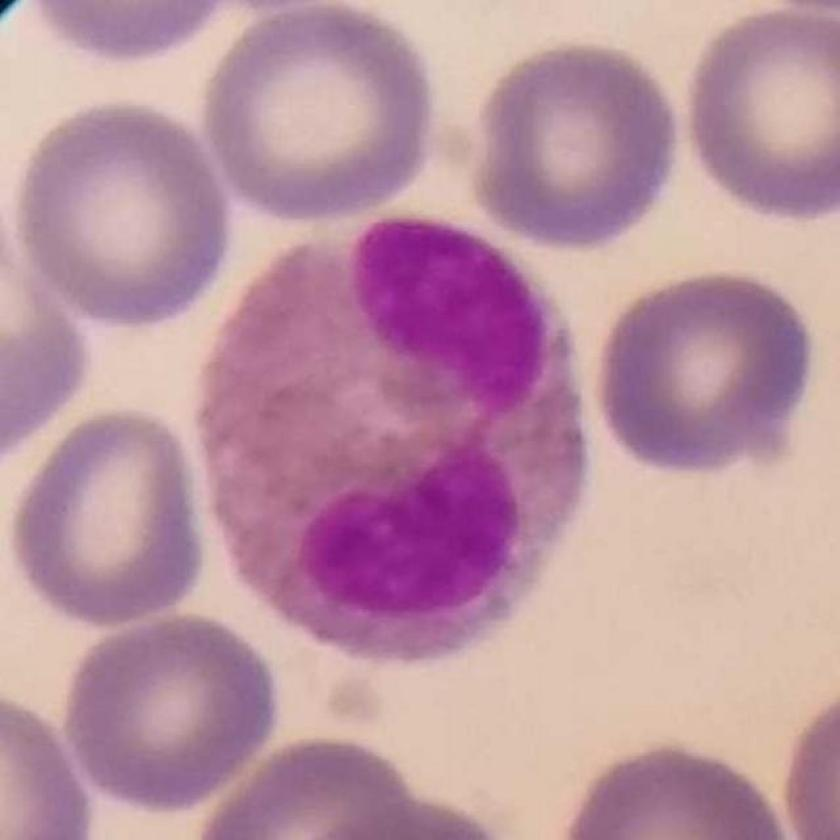eosinophil: (197, 204, 596, 673)
